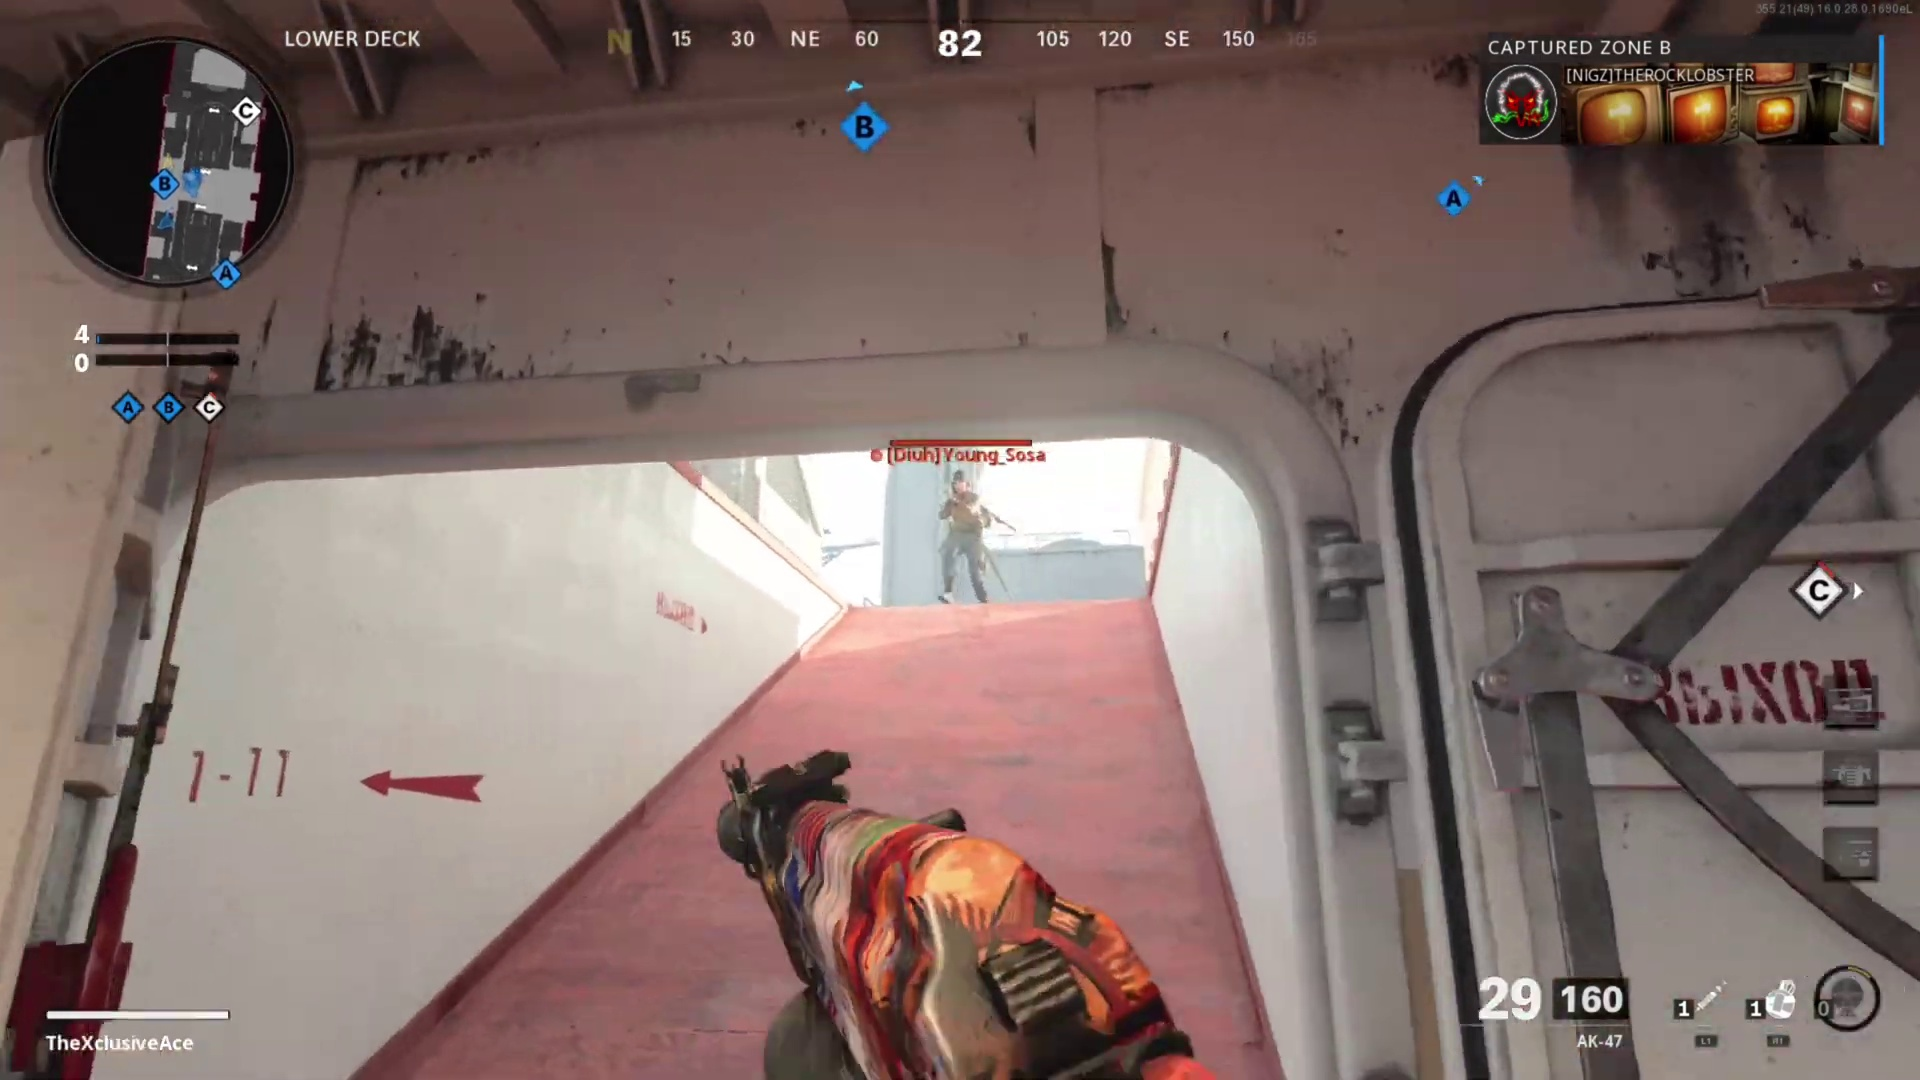head: (947, 470, 972, 510)
person: (931, 470, 1009, 599)
